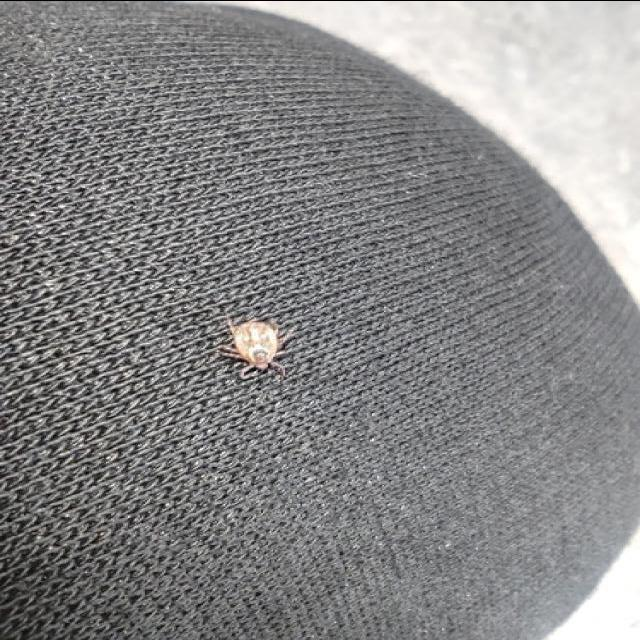Dermacentor Reticulatus-F: (220, 317, 294, 375)
